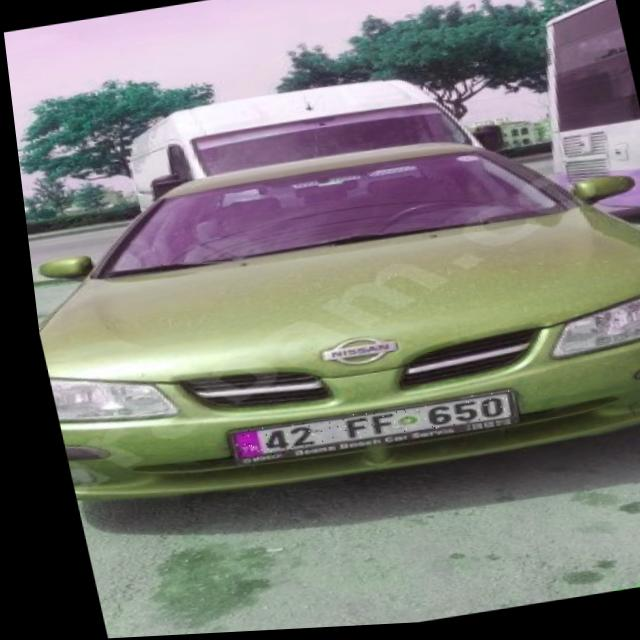license_plate: (216, 393, 507, 463)
